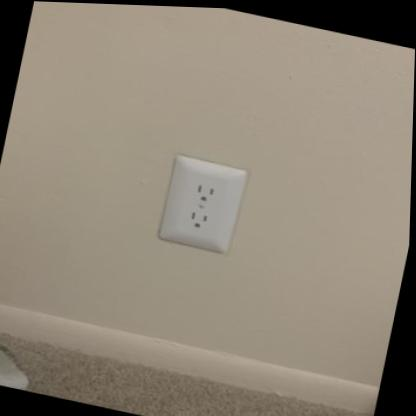OUTLET: (157, 153, 242, 254)
